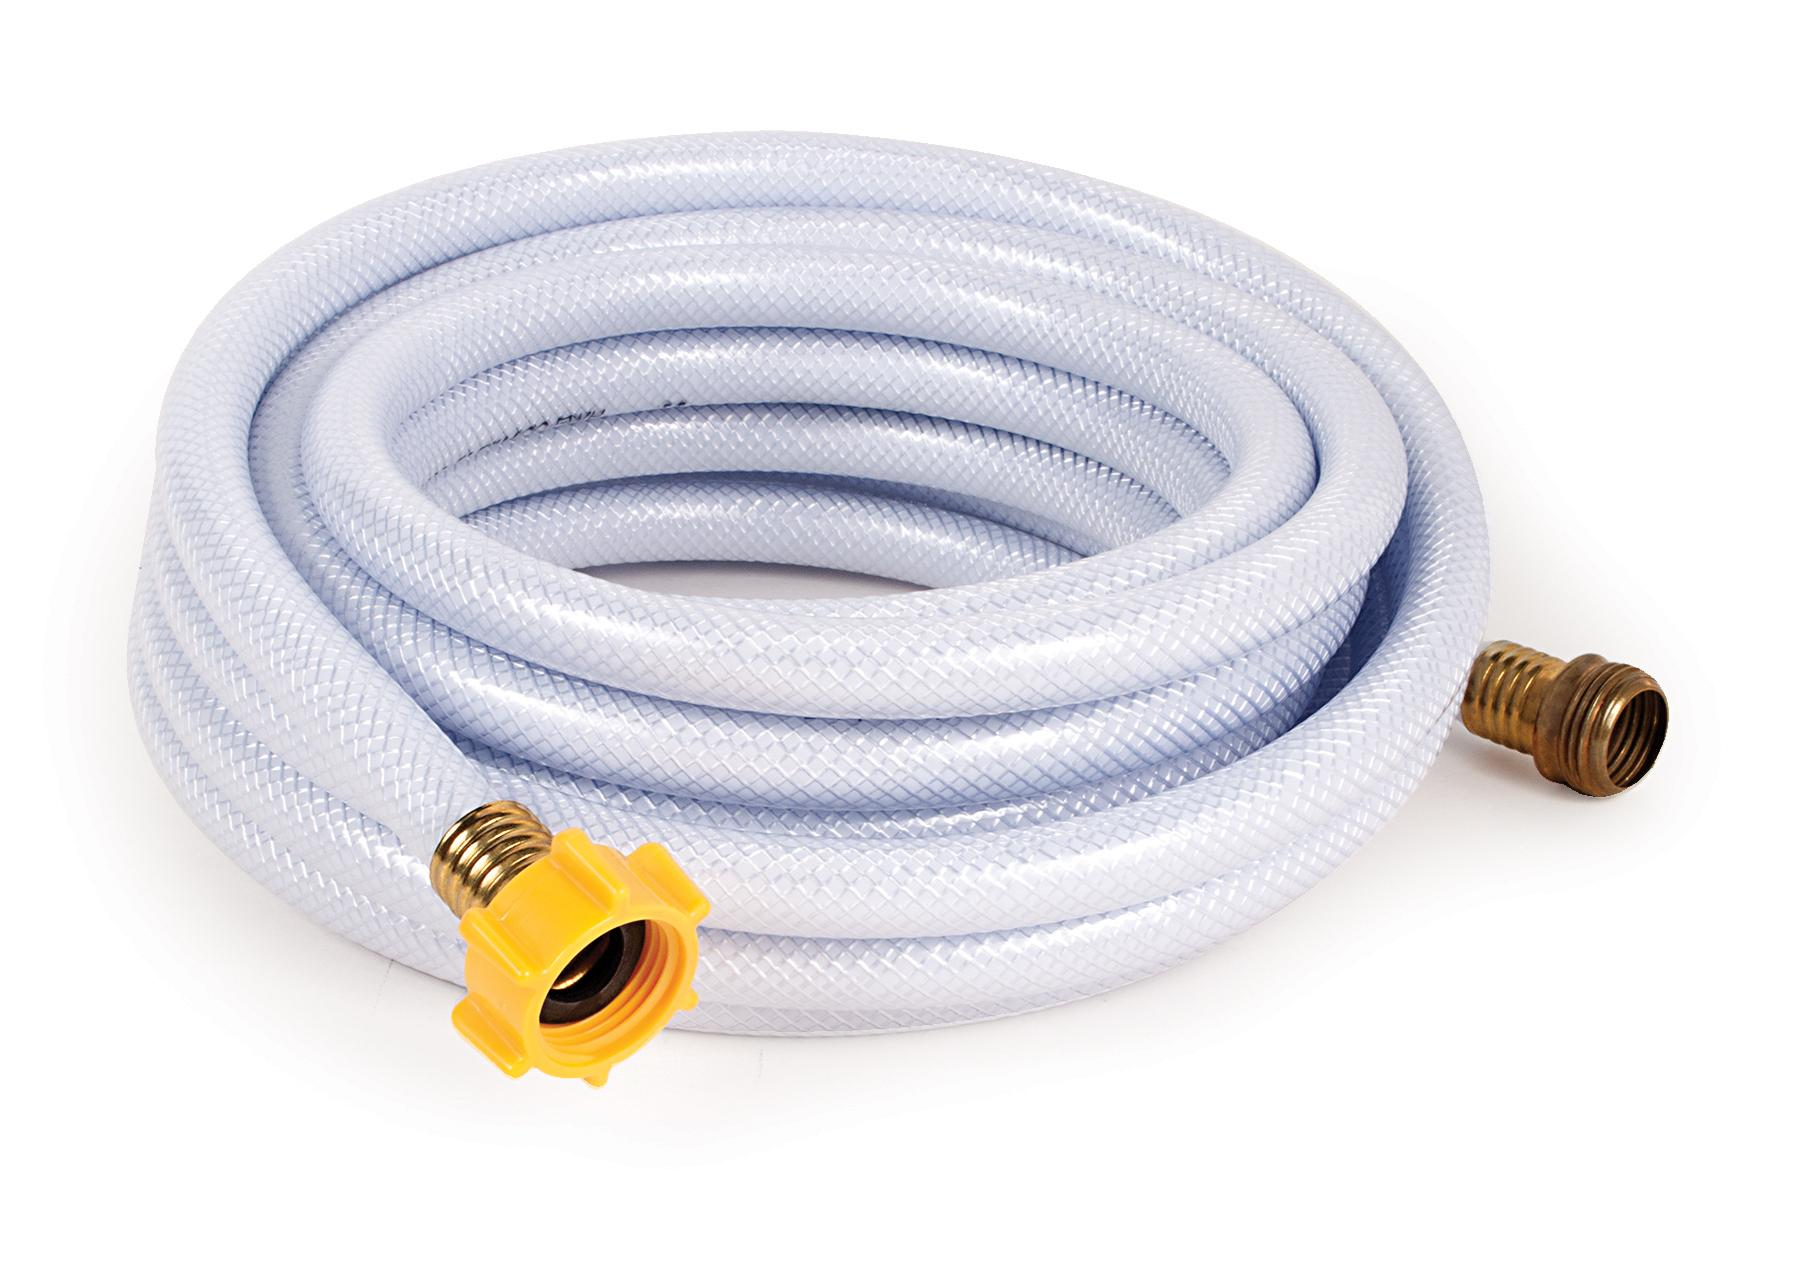Nonrec_Tangler: (54, 83, 1700, 1124)
